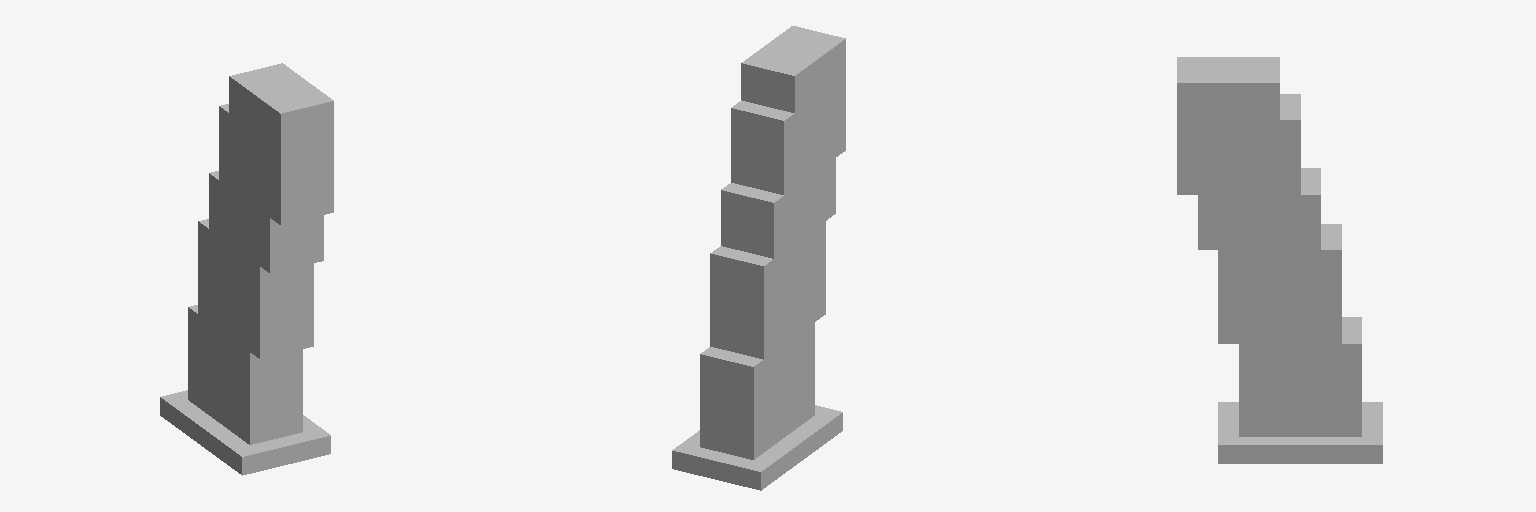
Rendered from Pistol-0.obj.
3 views of the same model, side by side, from view 1: azimuth 30°, elevation 25°; view 2: azimuth 150°, elevation 25°; view 3: azimuth 270°, elevation 25° (orthographic).
Parts seen in each view (by area): view 1: object 1; view 2: object 1; view 3: object 1.
Part boxes in pixels (bbox=[...]): object 1: bbox=[160, 63, 333, 475]; object 1: bbox=[672, 26, 845, 490]; object 1: bbox=[1177, 57, 1382, 463].
Size of the model in its own units: 0.5 by 2 by 1.